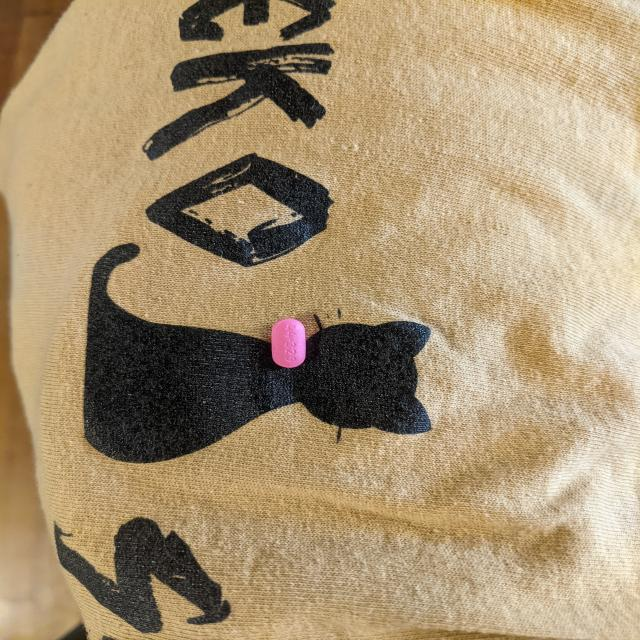non-organic waste: (270, 317, 307, 368)
